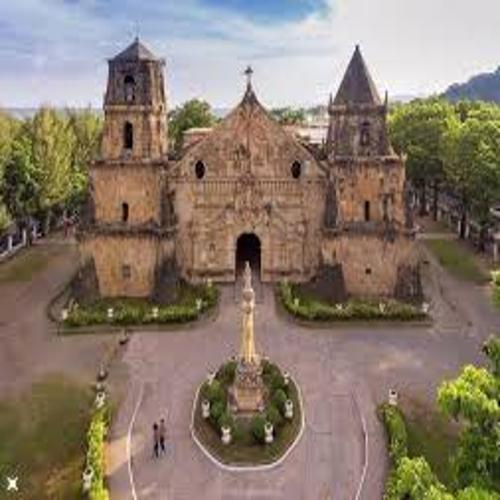Miagao Church: (81, 22, 419, 310)
